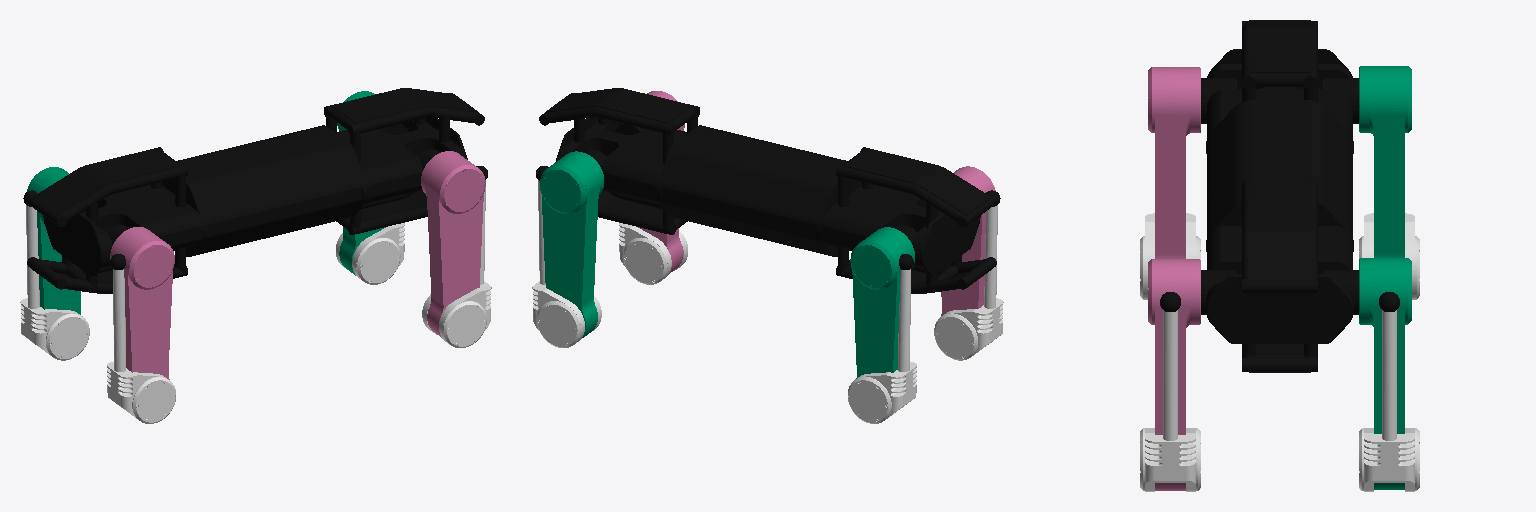
--- What the picture shows (computed from the rendered views, not written in the file) ---
The picture shows the robot from 3 angles, left to right: view 1: azimuth 30°, elevation 25°; view 2: azimuth 150°, elevation 25°; view 3: azimuth 270°, elevation 25°; orthographic projection.
Robot: hyq — 17 links, 16 joints (12 revolute, 4 fixed); root link trunk; default pose: joints at zero except 4 at the middle of their limits (lf_kfe_joint = -2.95, rf_kfe_joint = -2.95, lh_kfe_joint = 2.95, rh_kfe_joint = 2.95).
Links seen in each view (by area): view 1: trunk, rf_upperleg, rh_upperleg, rh_lowerleg, lh_lowerleg, rf_lowerleg, lf_lowerleg, lh_upperleg, lf_upperleg; view 2: trunk, lf_upperleg, lh_upperleg, lh_lowerleg, rh_lowerleg, lf_lowerleg, rf_lowerleg, rh_upperleg, rf_upperleg; view 3: trunk, lh_upperleg, rh_upperleg, lf_lowerleg, rf_lowerleg, rf_upperleg, lf_upperleg, rh_lowerleg, lh_lowerleg, lh_hipassembly, rh_hipassembly, lf_hipassembly (+1 smaller).
Boxes of the visible links, <box> form: trunk: <box>27,88,484,293</box>; rf_upperleg: <box>421,151,485,337</box>; rh_upperleg: <box>110,227,174,379</box>; rh_lowerleg: <box>107,269,175,423</box>; lh_lowerleg: <box>20,205,89,360</box>; rf_lowerleg: <box>422,187,491,347</box>; lf_lowerleg: <box>336,223,404,284</box>; lh_upperleg: <box>27,167,80,344</box>; lf_upperleg: <box>337,91,385,275</box>; trunk: <box>539,88,996,293</box>; lf_upperleg: <box>540,151,603,337</box>; lh_upperleg: <box>850,227,914,378</box>; lh_lowerleg: <box>848,269,916,423</box>; rh_lowerleg: <box>934,205,1003,360</box>; lf_lowerleg: <box>532,180,601,347</box>; rf_lowerleg: <box>619,223,687,284</box>; rh_upperleg: <box>941,166,995,315</box>; rf_upperleg: <box>638,91,684,273</box>; trunk: <box>1206,20,1353,372</box>; lh_upperleg: <box>1359,66,1411,257</box>; rh_upperleg: <box>1148,67,1200,258</box>; lf_lowerleg: <box>1359,310,1419,491</box>; rf_lowerleg: <box>1140,310,1200,491</box>; rf_upperleg: <box>1148,259,1200,490</box>; lf_upperleg: <box>1359,258,1411,489</box>; rh_lowerleg: <box>1140,213,1200,299</box>; lh_lowerleg: <box>1359,213,1419,299</box>; lh_hipassembly: <box>1323,78,1358,123</box>; rh_hipassembly: <box>1201,78,1236,123</box>; lf_hipassembly: <box>1323,270,1358,314</box>.
Size in the robot's own frame: 1.22 by 0.546 by 0.5745 metres.
Meshes: 3 distinct files referenced, 9 mesh visuals loaded (3 binary STL).

URDF robot description (hyq):
<?xml version="1.0" ?>
<!-- =================================================================================== -->
<!-- |    This document was autogenerated by xacro from hyq2max_model.urdf.xacro       | -->
<!-- |    EDITING THIS FILE BY HAND IS NOT RECOMMENDED                                 | -->
<!-- =================================================================================== -->
<robot name="hyq" xmlns:xacro="http://www.ros.org/wiki/xacro">
  <!-- 0.887 1.4192-->
  <gazebo>
    <plugin filename="libgazebo_ros_control.so" name="gazebo_ros_controller_manager">
      <robotNamespace>/hyq2max</robotNamespace>
      <robotSimType>dls_gazebo_interface/DLSHWSim</robotSimType>
      <controlPeriod>0.004</controlPeriod>
    </plugin>
    <plugin filename="libgazebo_ros_p3d.so" name="gazebo_ros_p3d">
      <robotNamespace>/hyq2max</robotNamespace>
      <bodyName>trunk</bodyName>
      <topicName>ground_truth</topicName>
      <frameName>world</frameName>
      <xyzOffsets>0 0 0</xyzOffsets>
      <rpyOffsets>0 0 0</rpyOffsets>
      <gaussianNoise>0</gaussianNoise>
      <alwaysOn>true</alwaysOn>
      <updateRate>250.0</updateRate>
    </plugin>
  </gazebo>
  <!-- Now we can start using the macros included above to define the actual HyQ2Max -->
  <!-- The first use of a macro. This one was defined in trunk.urdf.xacro above.
A macro like this will expand to a set of link and joint definitions, and to additional
Gazebo-related extensions (sensor plugins, etc). The macro takes an argument, name,
that equals "base", and uses it to generate names for its component links and joints
(e.g., base_link). The included origin block is also an argument to the macro. By convention,
the origin block defines where the component is w.r.t its parent (in this case the parent
is the world frame). For more, see http://www.ros.org/wiki/xacro -->
  <!-- Floating-base Joint -->
  <!--joint name="floating_base" type="floating">
    <origin rpy="0 0 0" xyz="0 0 0"/>
    <parent link="base_link"/>
    <child link="trunk"/>
  </joint-->
  <!-- Links -->
  <!-- Footprint link -->
  <!--link name="base_link">
    <visual>
      <geometry>
        <cylinder length="0.01" radius="0.01"/>
      </geometry>
    </visual>
  </link-->
  <!-- ***********  MODEL COLORS *********** -->
  <material name="black">
    <color rgba="0.1 0.1 0.1 1"/>
  </material>
  <material name="white">
    <color rgba="0.9 0.9 0.9 1"/>
  </material>
  <material name="dark_gray">
    <color rgba="0.3 0.3 0.3 1"/>
  </material>
  <!-- Trunk link -->
  <link name="trunk">
    <inertial>
      <origin xyz="0.060663 0.000598 -0.007592"/>
      <mass value="39.71"/>
      <inertia ixx="0.3020795" ixy="-0.0050854" ixz="0.0046576" iyy="4.751448" iyz="-0.0017613" izz="4.82415"/>
    </inertial>
    <visual>
      <origin rpy="0 0 1.57079632679" xyz="0 0 0"/>
      <material name="black"/>
      <geometry>
        <mesh filename="meshes/trunk/trunk.stl" scale="1.0 1 1.0"/>
      </geometry>
    </visual>
    <collision>
      <origin rpy="0 0 1.57079632679" xyz="0 0 0"/>
      <geometry>
        <mesh filename="meshes/trunk/trunk.stl" scale="1.0 1 1.0"/>
      </geometry>
    </collision>
  </link>
  <gazebo reference="trunk">
    <mu1>1.5</mu1>
    <mu2>1.5</mu2>
  </gazebo>
  <!-- Joints -->
  <!-- HAA joint -->
  <joint name="lf_haa_joint" type="revolute">
    <origin rpy="3.14159265359 1.57079632679 0" xyz="0.4435 0.097 0"/>
    <parent link="trunk"/>
    <child link="lf_hipassembly"/>
    <axis xyz="0 0 1"/>
    <dynamics damping="0.1" friction="0"/>
    <limit effort="120.0" lower="-0.698131700798" upper="0.698131700798" velocity="12.0"/>
    <safety_controller k_position="100" k_velocity="100" soft_lower_limit="-0.698131700798" soft_upper_limit="0.698131700798"/>
  </joint>
  <!-- HFE joint -->
  <joint name="lf_hfe_joint" type="revolute">
    <origin rpy="1.57079632679 0 0" xyz="0 -0.117 0"/>
    <parent link="lf_hipassembly"/>
    <child link="lf_upperleg"/>
    <axis xyz="0 0 1"/>
    <dynamics damping="0.1" friction="0"/>
    <limit effort="245.0" lower="-2.35619449019" upper="2.35619449019" velocity="12.0"/>
    <safety_controller k_position="100" k_velocity="100" soft_lower_limit="-2.35619449019" soft_upper_limit="2.35619449019"/>
  </joint>
  <!-- KFE joint -->
  <joint name="lf_kfe_joint" type="revolute">
    <origin rpy="0 0 0" xyz="0.36 0 0"/>
    <parent link="lf_upperleg"/>
    <child link="lf_lowerleg"/>
    <axis xyz="0 0 1"/>
    <dynamics damping="0.1" friction="0"/>
    <limit effort="250.0" lower="-5.82939970166" upper="-0.0698131700798" velocity="12.0"/>
    <safety_controller k_position="100" k_velocity="100" soft_lower_limit="-5.82939970166" soft_upper_limit="-0.0698131700798"/>
  </joint>
  <!-- Foot joint -->
  <joint name="lf_foot_joint" type="fixed">
    <origin rpy="1.57079632679 0 -1.57079632679" xyz="0.38 0 0"/>
    <parent link="lf_lowerleg"/>
    <child link="lf_foot"/>
  </joint>
  <!-- Links -->
  <!-- Hip assembly link -->
  <link name="lf_hipassembly">
    <inertial>
      <origin xyz="-0.000605 -0.001346 0.000196"/>
      <mass value="3.54"/>
      <inertia ixx="0.007379" ixy="-5.3e-05" ixz="1.7e-05" iyy="0.004284" iyz="3e-05" izz="0.00709"/>
    </inertial>
    <visual>
      <origin rpy="0 -1.57079632679 -1.57079632679" xyz="0 -0.046 0"/>
      <geometry>
        <cylinder length="0.117" radius="0.0444"/>
      </geometry>
      <material name="black"/>
    </visual>
    <collision>
      <origin rpy="0 -1.57079632679 -1.57079632679" xyz="0 -0.046 0"/>
      <geometry>
        <!-- <mesh filename="meshes/leg/hipassembly.stl" scale="1 1 1"/> -->
        <cylinder length="0.117" radius="0.0444"/>
      </geometry>
    </collision>
  </link>
  <gazebo reference="lf_hipassembly">
    <material>Gazebo/Black</material>
  </gazebo>
  <!-- Upper leg link -->
  <link name="lf_upperleg">
    <inertial>
      <origin xyz="0.144296 -0.002071 -0.005094"/>
      <mass value="4.95"/>
      <inertia ixx="0.010196" ixy="-0.00232" ixz="-0.000141" iyy="0.204183" iyz="3.4e-05" izz="0.207532"/>
    </inertial>
    <visual>
      <origin rpy="1.57079632679 0 0" xyz="0 0 -0.03"/>
      <!-- <origin xyz="0.180 0 0" rpy="0 0 0"/> -->
      <geometry>
        <mesh filename="meshes/leg/upperleg.stl" scale="1 1 1"/>
        <!-- <box size="0.360 0.116 0.07"/> -->
        <!-- <cylinder length="0.360" radius="0.07"/> -->
      </geometry>
    </visual>
    <collision>
      <origin rpy="1.57079632679 0 0" xyz="0 0 -0.03"/>
      <!-- <origin xyz="0.180 0 0" rpy="0 0 0"/> -->
      <geometry>
        <mesh filename="meshes/leg/upperleg.stl" scale="1 1 1"/>
        <!-- <box size="0.360 0.116 0.07"/> -->
        <!-- <cylinder length="0.360" radius="0.07"/> -->
      </geometry>
    </collision>
  </link>
  <!-- Lower leg link -->
  <link name="lf_lowerleg">
    <inertial>
      <origin xyz="0.109015 0.042147 0.000219"/>
      <mass value="1.71"/>
      <inertia ixx="0.006848" ixy="0.011981" ixz="8e-06" iyy="0.055957" iyz="1.2e-05" izz="0.059397"/>
    </inertial>
    <visual>
      <origin rpy="1.57079632679 0 2.96705972839" xyz="0 0 0"/>
      <geometry>
        <mesh filename="meshes/leg/lowerleg.stl" scale="1 1 1"/>
      </geometry>
      <material name="white"/>
    </visual>
    <collision>
      <origin rpy="1.57079632679 0 2.96705972839" xyz="0 0 0"/>
      <geometry>
        <mesh filename="meshes/leg/lowerleg.stl" scale="1 1 1"/>
      </geometry>
    </collision>
  </link>
  <!-- Foot link -->
  <link name="lf_foot">
    <inertial>
      <origin xyz="0 0 0"/>
      <mass value="0.0"/>
      <inertia ixx="0.0" ixy="0.0" ixz="0.0" iyy="0.0" iyz="0.0" izz="0.0"/>
    </inertial>
    <visual>
      <origin rpy="0.0 0.0 0.0" xyz="0.0 0.0 0.0"/>
      <geometry>
        <sphere radius="0.021"/>
      </geometry>
      <material name="black"/>
    </visual>
    <collision>
      <origin rpy="0 0 0" xyz="0 0 0"/>
      <geometry>
        <sphere radius="0.02175"/>
      </geometry>
    </collision>
  </link>
  <gazebo reference="lf_foot">
    <material>Gazebo/Black</material>
  </gazebo>
  <!-- Hip assembly -->
  <transmission name="lf_haa_trans">
    <type>transmission_interface/SimpleTransmission</type>
    <joint name="lf_haa_joint">
      <hardwareInterface>EffortJointInterface</hardwareInterface>
    </joint>
    <actuator name="lf_haa_motor">
      <hardwareInterface>EffortJointInterface</hardwareInterface>
      <mechanicalReduction>1</mechanicalReduction>
    </actuator>
  </transmission>
  <!-- Upper leg -->
  <transmission name="lf_hfe_trans">
    <type>transmission_interface/SimpleTransmission</type>
    <joint name="lf_hfe_joint">
      <hardwareInterface>EffortJointInterface</hardwareInterface>
    </joint>
    <actuator name="lf_hfe_motor">
      <hardwareInterface>EffortJointInterface</hardwareInterface>
      <mechanicalReduction>1</mechanicalReduction>
    </actuator>
  </transmission>
  <!-- Lower leg -->
  <transmission name="lf_kfe_trans">
    <type>transmission_interface/SimpleTransmission</type>
    <joint name="lf_kfe_joint">
      <hardwareInterface>EffortJointInterface</hardwareInterface>
    </joint>
    <actuator name="lf_kfe_motor">
      <hardwareInterface>EffortJointInterface</hardwareInterface>
      <mechanicalReduction>1</mechanicalReduction>
    </actuator>
  </transmission>
  <gazebo reference="lf_haa_joint">
    <provideFeedback>true</provideFeedback>
  </gazebo>
  <gazebo reference="lf_kfe_joint">
    <provideFeedback>true</provideFeedback>
  </gazebo>
  <gazebo reference="lf_hfe_joint">
    <provideFeedback>true</provideFeedback>
  </gazebo>
  <gazebo reference="lf_upperleg">
    <kp>1000000.0</kp>
    <kd>100.0</kd>
    <mu1>1.5</mu1>
    <mu2>1.5</mu2>
    <fdir1>1 0 0</fdir1>
    <maxVel>1.0</maxVel>
    <minDepth>0.00</minDepth>
  </gazebo>
  <gazebo reference="lf_lowerleg">
    <kp>1000000.0</kp>
    <kd>100.0</kd>
    <mu1>1.5</mu1>
    <mu2>1.5</mu2>
    <fdir1>1 0 0</fdir1>
    <maxVel>1.0</maxVel>
    <minDepth>0.00</minDepth>
    <sensor name="lf_shin_contact_sensor" type="contact">
      <always_on>true</always_on>
      <update_rate>1000.0</update_rate>
      <contact>
        <collision>lf_lowerleg_collision</collision>
      </contact>
      <plugin filename="libgazebo_ros_bumper.so" name="lf_shin_bumper">
        <bumperTopicName>/lf_shin_sensor</bumperTopicName>
      </plugin>
    </sensor>
  </gazebo>
  <gazebo reference="lf_foot">
    <sensor name="lf_foot_contact_sensor" type="contact">
      <always_on>true</always_on>
      <update_rate>1000.0</update_rate>
      <contact>
        <collision>lf_foot_collision</collision>
      </contact>
      <plugin filename="libgazebo_ros_bumper.so" name="lf_foot_bumper">
        <bumperTopicName>/lf_grf</bumperTopicName>
        <frameName>base_link</frameName>
      </plugin>
    </sensor>
  </gazebo>
  <!-- Joints -->
  <!-- HAA joint -->
  <joint name="rf_haa_joint" type="revolute">
    <origin rpy="0 1.57079632679 0" xyz="0.4435 -0.097 0"/>
    <parent link="trunk"/>
    <child link="rf_hipassembly"/>
    <axis xyz="0 0 1"/>
    <dynamics damping="0.1" friction="0"/>
    <limit effort="120.0" lower="-0.698131700798" upper="0.698131700798" velocity="12.0"/>
    <safety_controller k_position="100" k_velocity="100" soft_lower_limit="-0.698131700798" soft_upper_limit="0.698131700798"/>
  </joint>
  <!-- HFE joint -->
  <joint name="rf_hfe_joint" type="revolute">
    <origin rpy="-1.57079632679 0 0" xyz="0 -0.117 0"/>
    <parent link="rf_hipassembly"/>
    <child link="rf_upperleg"/>
    <axis xyz="0 0 1"/>
    <dynamics damping="0.1" friction="0"/>
    <limit effort="245.0" lower="-2.35619449019" upper="2.35619449019" velocity="12.0"/>
    <safety_controller k_position="100" k_velocity="100" soft_lower_limit="-2.35619449019" soft_upper_limit="2.35619449019"/>
  </joint>
  <!-- KFE joint -->
  <joint name="rf_kfe_joint" type="revolute">
    <origin rpy="0 0 0" xyz="0.36 0 0"/>
    <parent link="rf_upperleg"/>
    <child link="rf_lowerleg"/>
    <axis xyz="0 0 1"/>
    <dynamics damping="0.1" friction="0"/>
    <limit effort="250.0" lower="-5.82939970166" upper="-0.0698131700798" velocity="12.0"/>
    <safety_controller k_position="100" k_velocity="100" soft_lower_limit="-5.82939970166" soft_upper_limit="-0.0698131700798"/>
  </joint>
  <!-- Foot joint -->
  <joint name="rf_foot_joint" type="fixed">
    <origin rpy="1.57079632679 0 -1.57079632679" xyz="0.38 0 0"/>
    <parent link="rf_lowerleg"/>
    <child link="rf_foot"/>
  </joint>
  <!-- Links -->
  <!-- Hip assembly link -->
  <link name="rf_hipassembly">
    <inertial>
      <origin xyz="-0.000605 -0.001346 0.000196"/>
      <mass value="3.54"/>
      <inertia ixx="0.007379" ixy="-5.3e-05" ixz="1.7e-05" iyy="0.004284" iyz="3e-05" izz="0.00709"/>
    </inertial>
    <visual>
      <origin rpy="0 -1.57079632679 -1.57079632679" xyz="0 -0.046 0"/>
      <geometry>
        <cylinder length="0.117" radius="0.0444"/>
      </geometry>
      <material name="black"/>
    </visual>
    <collision>
      <origin rpy="0 -1.57079632679 -1.57079632679" xyz="0 -0.046 0"/>
      <geometry>
        <!-- <mesh filename="meshes/leg/hipassembly.stl" scale="1 1 1"/> -->
        <cylinder length="0.117" radius="0.0444"/>
      </geometry>
    </collision>
  </link>
  <gazebo reference="rf_hipassembly">
    <material>Gazebo/Black</material>
  </gazebo>
  <!-- Upper leg link -->
  <link name="rf_upperleg">
    <inertial>
      <origin xyz="0.144296 -0.002071 0.005094"/>
      <mass value="4.95"/>
      <inertia ixx="0.010196" ixy="-0.00232" ixz="0.000141" iyy="0.204183" iyz="-3.4e-05" izz="0.207532"/>
    </inertial>
    <visual>
      <origin rpy="-1.57079632679 0 0" xyz="0 0 0.03"/>
      <!-- <origin xyz="0.180 0 0" rpy="0 0 0"/> -->
      <geometry>
        <mesh filename="meshes/leg/upperleg.stl" scale="1 1 1"/>
        <!-- <box size="0.360 0.116 0.07"/> -->
        <!-- <cylinder length="0.360" radius="0.07"/> -->
      </geometry>
    </visual>
    <collision>
      <origin rpy="-1.57079632679 0 0" xyz="0 0 0.03"/>
      <!-- <origin xyz="0.180 0 0" rpy="0 0 0"/> -->
      <geometry>
        <mesh filename="meshes/leg/upperleg.stl" scale="1 1 1"/>
        <!-- <box size="0.360 0.116 0.07"/> -->
        <!-- <cylinder length="0.360" radius="0.07"/> -->
      </geometry>
    </collision>
  </link>
  <!-- Lower leg link -->
  <link name="rf_lowerleg">
    <inertial>
      <origin xyz="0.109015 0.042147 0.000219"/>
      <mass value="1.71"/>
      <inertia ixx="0.006848" ixy="0.011981" ixz="8e-06" iyy="0.055957" iyz="1.2e-05" izz="0.059397"/>
    </inertial>
    <visual>
      <origin rpy="1.57079632679 0 2.96705972839" xyz="0 0 0"/>
      <geometry>
        <mesh filename="meshes/leg/lowerleg.stl" scale="1 1 1"/>
      </geometry>
      <material name="white"/>
    </visual>
    <collision>
      <origin rpy="1.57079632679 0 2.96705972839" xyz="0 0 0"/>
      <geometry>
        <mesh filename="meshes/leg/lowerleg.stl" scale="1 1 1"/>
      </geometry>
    </collision>
  </link>
  <!-- Foot link -->
  <link name="rf_foot">
    <inertial>
      <origin xyz="0 0 0"/>
      <mass value="0.0"/>
      <inertia ixx="0.0" ixy="0.0" ixz="0.0" iyy="0.0" iyz="0.0" izz="0.0"/>
    </inertial>
    <visual>
      <origin rpy="0.0 0.0 0.0" xyz="0.0 0.0 0.0"/>
      <geometry>
        <sphere radius="0.021"/>
      </geometry>
      <material name="black"/>
    </visual>
    <collision>
      <origin rpy="0 0 0" xyz="0 0 0"/>
      <geometry>
        <sphere radius="0.02175"/>
      </geometry>
    </collision>
  </link>
  <gazebo reference="rf_foot">
    <material>Gazebo/Black</material>
  </gazebo>
  <!-- Hip assembly -->
  <transmission name="rf_haa_trans">
    <type>transmission_interface/SimpleTransmission</type>
    <joint name="rf_haa_joint">
      <hardwareInterface>EffortJointInterface</hardwareInterface>
    </joint>
    <actuator name="rf_haa_motor">
      <hardwareInterface>EffortJointInterface</hardwareInterface>
      <mechanicalReduction>1</mechanicalReduction>
    </actuator>
  </transmission>
  <!-- Upper leg -->
  <transmission name="rf_hfe_trans">
    <type>transmission_interface/SimpleTransmission</type>
    <joint name="rf_hfe_joint">
      <hardwareInterface>EffortJointInterface</hardwareInterface>
    </joint>
    <actuator name="rf_hfe_motor">
      <hardwareInterface>EffortJointInterface</hardwareInterface>
      <mechanicalReduction>1</mechanicalReduction>
    </actuator>
  </transmission>
  <!-- Lower leg -->
  <transmission name="rf_kfe_trans">
    <type>transmission_interface/SimpleTransmission</type>
    <joint name="rf_kfe_joint">
      <hardwareInterface>EffortJointInterface</hardwareInterface>
    </joint>
    <actuator name="rf_kfe_motor">
      <hardwareInterface>EffortJointInterface</hardwareInterface>
      <mechanicalReduction>1</mechanicalReduction>
    </actuator>
  </transmission>
  <gazebo reference="rf_haa_joint">
    <provideFeedback>true</provideFeedback>
  </gazebo>
  <gazebo reference="rf_kfe_joint">
    <provideFeedback>true</provideFeedback>
  </gazebo>
  <gazebo reference="rf_hfe_joint">
    <provideFeedback>true</provideFeedback>
  </gazebo>
  <gazebo reference="rf_upperleg">
    <kp>1000000.0</kp>
    <kd>100.0</kd>
    <mu1>1.5</mu1>
    <mu2>1.5</mu2>
    <fdir1>1 0 0</fdir1>
    <maxVel>1.0</maxVel>
    <minDepth>0.00</minDepth>
  </gazebo>
  <gazebo reference="rf_lowerleg">
    <kp>1000000.0</kp>
    <kd>100.0</kd>
    <mu1>1.5</mu1>
    <mu2>1.5</mu2>
    <fdir1>1 0 0</fdir1>
    <maxVel>1.0</maxVel>
    <minDepth>0.00</minDepth>
    <sensor name="rf_shin_contact_sensor" type="contact">
      <always_on>true</always_on>
      <update_rate>1000.0</update_rate>
      <contact>
        <collision>rf_lowerleg_collision</collision>
      </contact>
      <plugin filename="libgazebo_ros_bumper.so" name="rf_shin_bumper">
        <bumperTopicName>/rf_shin_sensor</bumperTopicName>
      </plugin>
    </sensor>
  </gazebo>
  <gazebo reference="rf_foot">
    <sensor name="rf_foot_contact_sensor" type="contact">
      <always_on>true</always_on>
      <update_rate>1000.0</update_rate>
      <contact>
        <collision>rf_foot_collision</collision>
      </contact>
      <plugin filename="libgazebo_ros_bumper.so" name="rf_foot_bumper">
        <bumperTopicName>/rf_grf</bumperTopicName>
        <frameName>base_link</frameName>
      </plugin>
    </sensor>
  </gazebo>
  <!-- Joints -->
  <!-- HAA joint -->
  <joint name="lh_haa_joint" type="revolute">
    <origin rpy="3.14159265359 1.57079632679 0" xyz="-0.4435 0.097 0"/>
    <parent link="trunk"/>
    <child link="lh_hipassembly"/>
    <axis xyz="0 0 1"/>
    <dynamics damping="0.1" friction="0"/>
    <limit effort="120.0" lower="-0.698131700798" upper="0.698131700798" velocity="12.0"/>
    <safety_controller k_position="100" k_velocity="100" soft_lower_limit="-0.698131700798" soft_upper_limit="0.698131700798"/>
  </joint>
  <!-- HFE joint -->
  <joint name="lh_hfe_joint" type="revolute">
    <origin rpy="1.57079632679 0 0" xyz="0 -0.117 0"/>
    <parent link="lh_hipassembly"/>
    <child link="lh_upperleg"/>
    <axis xyz="0 0 1"/>
    <dynamics damping="0.1" friction="0"/>
    <limit effort="245.0" lower="-2.35619449019" upper="2.35619449019" velocity="12.0"/>
    <safety_controller k_position="100" k_velocity="100" soft_lower_limit="-2.35619449019" soft_upper_limit="2.35619449019"/>
  </joint>
  <!-- KFE joint -->
  <joint name="lh_kfe_joint" type="revolute">
    <origin rpy="0 0 0" xyz="0.36 0 0"/>
    <parent link="lh_upperleg"/>
    <child link="lh_lowerleg"/>
    <axis xyz="0 0 1"/>
    <dynamics damping="0.1" friction="0"/>
    <limit effort="250.0" lower="0.0698131700798" upper="5.82939970166" velocity="12.0"/>
    <safety_controller k_position="100" k_velocity="100" soft_lower_limit="0.0698131700798" soft_upper_limit="5.82939970166"/>
  </joint>
  <!-- Foot joint -->
  <joint name="lh_foot_joint" type="fixed">
    <origin rpy="1.57079632679 0 -1.57079632679" xyz="0.38 0 0"/>
    <parent link="lh_lowerleg"/>
    <child link="lh_foot"/>
  </joint>
  <!-- Links -->
  <!-- Hip assembly link -->
  <link name="lh_hipassembly">
    <inertial>
      <origin xyz="-0.000605 -0.001346 0.000196"/>
      <mass value="3.54"/>
      <inertia ixx="0.007379" ixy="-5.3e-05" ixz="1.7e-05" iyy="0.004284" iyz="3e-05" izz="0.00709"/>
    </inertial>
    <visual>
      <origin rpy="0 -1.57079632679 -1.57079632679" xyz="0 -0.046 0"/>
      <geometry>
        <cylinder length="0.117" radius="0.0444"/>
      </geometry>
      <material name="black"/>
    </visual>
    <collision>
      <origin rpy="0 -1.57079632679 -1.57079632679" xyz="0 -0.046 0"/>
      <geometry>
        <!-- <mesh filename="meshes/leg/hipassembly.stl" scale="1 1 1"/> -->
        <cylinder length="0.117" radius="0.0444"/>
      </geometry>
    </collision>
  </link>
  <gazebo reference="lh_hipassembly">
    <material>Gazebo/Black</material>
  </gazebo>
  <!-- Upper leg link -->
  <link name="lh_upperleg">
    <inertial>
      <origin xyz="0.144296 0.002071 -0.005094"/>
      <mass value="4.95"/>
      <inertia ixx="0.010196" ixy="0.00232" ixz="-0.000141" iyy="0.204183" iyz="-3.4e-05" izz="0.207532"/>
    </inertial>
    <visual>
      <origin rpy="1.57079632679 0 0" xyz="0 0 -0.03"/>
      <!-- <origin xyz="0.180 0 0" rpy="0 0 0"/> -->
      <geometry>
        <mesh filename="meshes/leg/upperleg.stl" scale="1 1 1"/>
        <!-- <box size="0.360 0.116 0.07"/> -->
        <!-- <cylinder length="0.360" radius="0.07"/> -->
      </geometry>
    </visual>
    <collision>
      <origin rpy="1.57079632679 0 0" xyz="0 0 -0.03"/>
      <!-- <origin xyz="0.180 0 0" rpy="0 0 0"/> -->
      <geometry>
        <mesh filename="meshes/leg/upperleg.stl" scale="1 1 1"/>
        <!-- <box size="0.360 0.116 0.07"/> -->
        <!-- <cylinder length="0.360" radius="0.07"/> -->
      </geometry>
    </collision>
  </link>
  <!-- Lower leg link -->
  <link name="lh_lowerleg">
    <inertial>
      <origin xyz="0.109015 -0.042147 -0.000219"/>
      <mass value="1.71"/>
      <inertia ixx="0.006848" ixy="-0.011981" ixz="-8e-06" iyy="0.055957" iyz="1.2e-05" izz="0.059397"/>
    </inertial>
    <visual>
      <origin rpy="-1.57079632679 0 3.31612557879" xyz="0 0 0"/>
      <geometry>
        <mesh filename="meshes/leg/lowerleg.stl" scale="1 1 1"/>
      </geometry>
      <material name="white"/>
    </visual>
    <collision>
      <origin rpy="-1.57079632679 0 3.31612557879" xyz="0 0 0"/>
      <geometry>
        <mesh filename="meshes/leg/lowerleg.stl" scale="1 1 1"/>
      </geometry>
    </collision>
  </link>
  <!-- Foot link -->
  <link name="lh_foot">
    <inertial>
      <origin xyz="0 0 0"/>
      <mass value="0.0"/>
      <inertia ixx="0.0" ixy="0.0" ixz="0.0" iyy="0.0" iyz="0.0" izz="0.0"/>
    </inertial>
    <visual>
      <origin rpy="0.0 0.0 0.0" xyz="0.0 0.0 0.0"/>
      <geometry>
        <sphere radius="0.021"/>
      </geometry>
      <material name="black"/>
    </visual>
    <collision>
      <origin rpy="0 0 0" xyz="0 0 0"/>
      <geometry>
        <sphere radius="0.02175"/>
      </geometry>
    </collision>
  </link>
  <gazebo reference="lh_foot">
    <material>Gazebo/Black</material>
  </gazebo>
  <!-- Hip assembly -->
  <transmission name="lh_haa_trans">
    <type>transmission_interface/SimpleTransmission</type>
    <joint name="lh_haa_joint">
      <hardwareInterface>EffortJointInterface</hardwareInterface>
    </joint>
    <actuator name="lh_haa_motor">
      <hardwareInterface>EffortJointInterface</hardwareInterface>
      <mechanicalReduction>1</mechanicalReduction>
    </actuator>
  </transmission>
  <!-- Upper leg -->
  <transmission name="lh_hfe_trans">
    <type>transmission_interface/SimpleTransmission</type>
    <joint name="lh_hfe_joint">
      <hardwareInterface>EffortJointInterface</hardwareInterface>
    </joint>
    <actuator name="lh_hfe_motor">
      <hardwareInterface>EffortJointInterface</hardwareInterface>
      <mechanicalReduction>1</mechanicalReduction>
    </actuator>
  </transmission>
  <!-- Lower leg -->
  <transmission name="lh_kfe_trans">
    <type>transmission_interface/SimpleTransmission</type>
    <joint name="lh_kfe_joint">
      <hardwareInterface>EffortJointInterface</hardwareInterface>
    </joint>
    <actuator name="lh_kfe_motor">
      <hardwareInterface>EffortJointInterface</hardwareInterface>
      <mechanicalReduction>1</mechanicalReduction>
    </actuator>
  </transmission>
  <gazebo reference="lh_haa_joint">
    <provideFeedback>true</provideFeedback>
  </gazebo>
  <gazebo reference="lh_kfe_joint">
    <provideFeedback>true</provideFeedback>
  </gazebo>
  <gazebo reference="lh_hfe_joint">
    <provideFeedback>true</provideFeedback>
  </gazebo>
  <gazebo reference="lh_upperleg">
    <kp>1000000.0</kp>
    <kd>100.0</kd>
    <mu1>1.5</mu1>
    <mu2>1.5</mu2>
    <fdir1>1 0 0</fdir1>
    <maxVel>1.0</maxVel>
    <minDepth>0.00</minDepth>
  </gazebo>
  <gazebo reference="lh_lowerleg">
    <kp>1000000.0</kp>
    <kd>100.0</kd>
    <mu1>1.5</mu1>
    <mu2>1.5</mu2>
    <fdir1>1 0 0</fdir1>
    <maxVel>1.0</maxVel>
    <minDepth>0.00</minDepth>
    <sensor name="lh_shin_contact_sensor" type="contact">
      <always_on>true</always_on>
      <update_rate>1000.0</update_rate>
      <contact>
        <collision>lh_lowerleg_collision</collision>
      </contact>
      <plugin filename="libgazebo_ros_bumper.so" name="lh_shin_bumper">
        <bumperTopicName>/lh_shin_sensor</bumperTopicName>
      </plugin>
    </sensor>
  </gazebo>
  <gazebo reference="lh_foot">
    <sensor name="lh_foot_contact_sensor" type="contact">
      <always_on>true</always_on>
      <update_rate>1000.0</update_rate>
      <contact>
        <collision>lh_foot_collision</collision>
      </contact>
      <plugin filename="libgazebo_ros_bumper.so" name="lh_foot_bumper">
        <bumperTopicName>/lh_grf</bumperTopicName>
        <frameName>base_link</frameName>
      </plugin>
    </sensor>
  </gazebo>
  <!-- Joints -->
  <!-- HAA joint -->
  <joint name="rh_haa_joint" type="revolute">
    <origin rpy="0 1.57079632679 0" xyz="-0.4435 -0.097 0"/>
    <parent link="trunk"/>
    <child link="rh_hipassembly"/>
    <axis xyz="0 0 1"/>
    <dynamics damping="0.1" friction="0"/>
    <limit effort="120.0" lower="-0.698131700798" upper="0.698131700798" velocity="12.0"/>
    <safety_controller k_position="100" k_velocity="100" soft_lower_limit="-0.698131700798" soft_upper_limit="0.698131700798"/>
  </joint>
  <!-- HFE joint -->
  <joint name="rh_hfe_joint" type="revolute">
    <origin rpy="-1.57079632679 0 0" xyz="0 -0.117 0"/>
    <parent link="rh_hipassembly"/>
    <child link="rh_upperleg"/>
    <axis xyz="0 0 1"/>
    <dynamics damping="0.1" friction="0"/>
    <limit effort="245.0" lower="-2.35619449019" upper="2.35619449019" velocity="12.0"/>
    <safety_controller k_position="100" k_velocity="100" soft_lower_limit="-2.35619449019" soft_upper_limit="2.35619449019"/>
  </joint>
  <!-- KFE joint -->
  <joint name="rh_kfe_joint" type="revolute">
    <origin rpy="0 0 0" xyz="0.36 0 0"/>
    <parent link="rh_upperleg"/>
    <child link="rh_lowerleg"/>
    <axis xyz="0 0 1"/>
    <dynamics damping="0.1" friction="0"/>
    <limit effort="250.0" lower="0.0698131700798" upper="5.82939970166" velocity="12.0"/>
    <safety_controller k_position="100" k_velocity="100" soft_lower_limit="0.0698131700798" soft_upper_limit="5.82939970166"/>
  </joint>
  <!-- Foot joint -->
  <joint name="rh_foot_joint" type="fixed">
    <origin rpy="1.57079632679 0 -1.57079632679" xyz="0.38 0 0"/>
    <parent link="rh_lowerleg"/>
    <child link="rh_foot"/>
  </joint>
  <!-- Links -->
  <!-- Hip assembly link -->
  <link name="rh_hipassembly">
    <inertial>
      <origin xyz="-0.000605 -0.001346 0.000196"/>
      <mass value="3.54"/>
      <inertia ixx="0.007379" ixy="-5.3e-05" ixz="1.7e-05" iyy="0.004284" iyz="3e-05" izz="0.00709"/>
    </inertial>
    <visual>
      <origin rpy="0 -1.57079632679 -1.57079632679" xyz="0 -0.046 0"/>
      <geometry>
        <cylinder length="0.117" radius="0.0444"/>
      </geometry>
      <material name="black"/>
    </visual>
    <collision>
      <origin rpy="0 -1.57079632679 -1.57079632679" xyz="0 -0.046 0"/>
      <geometry>
        <!-- <mesh filename="meshes/leg/hipassembly.stl" scale="1 1 1"/> -->
        <cylinder length="0.117" radius="0.0444"/>
      </geometry>
    </collision>
  </link>
  <gazebo reference="rh_hipassembly">
    <material>Gazebo/Black</material>
  </gazebo>
  <!-- Upper leg link -->
  <link name="rh_upperleg">
    <inertial>
      <origin xyz="0.144296 0.002071 0.005094"/>
      <mass value="4.95"/>
      <inertia ixx="0.010196" ixy="0.00232" ixz="0.000141" iyy="0.204183" iyz="3.4e-05" izz="0.207532"/>
    </inertial>
    <visual>
      <origin rpy="-1.57079632679 0 0" xyz="0 0 0.03"/>
      <!-- <origin xyz="0.180 0 0" rpy="0 0 0"/> -->
      <geometry>
        <mesh filename="meshes/leg/upperleg.stl" scale="1 1 1"/>
        <!-- <box size="0.360 0.116 0.07"/> -->
        <!-- <cylinder length="0.360" radius="0.07"/> -->
      </geometry>
    </visual>
    <collision>
      <origin rpy="-1.57079632679 0 0" xyz="0 0 0.03"/>
      <!-- <origin xyz="0.180 0 0" rpy="0 0 0"/> -->
      <geometry>
        <mesh filename="meshes/leg/upperleg.stl" scale="1 1 1"/>
        <!-- <box size="0.360 0.116 0.07"/> -->
        <!-- <cylinder length="0.360" radius="0.07"/> -->
      </geometry>
    </collision>
  </link>
  <!-- Lower leg link -->
  <link name="rh_lowerleg">
    <inertial>
      <origin xyz="0.109015 -0.042147 -0.000219"/>
      <mass value="1.71"/>
      <inertia ixx="0.006848" ixy="-0.011981" ixz="-8e-06" iyy="0.055957" iyz="1.2e-05" izz="0.059397"/>
    </inertial>
    <visual>
      <origin rpy="-1.57079632679 0 3.31612557879" xyz="0 0 0"/>
      <geometry>
        <mesh filename="meshes/leg/lowerleg.stl" scale="1 1 1"/>
      </geometry>
      <material name="white"/>
    </visual>
    <collision>
      <origin rpy="-1.57079632679 0 3.31612557879" xyz="0 0 0"/>
      <geometry>
        <mesh filename="meshes/leg/lowerleg.stl" scale="1 1 1"/>
      </geometry>
    </collision>
  </link>
  <!-- Foot link -->
  <link name="rh_foot">
    <inertial>
      <origin xyz="0 0 0"/>
      <mass value="0.0"/>
      <inertia ixx="0.0" ixy="0.0" ixz="0.0" iyy="0.0" iyz="0.0" izz="0.0"/>
    </inertial>
    <visual>
      <origin rpy="0.0 0.0 0.0" xyz="0.0 0.0 0.0"/>
      <geometry>
        <sphere radius="0.021"/>
      </geometry>
      <material name="black"/>
    </visual>
    <collision>
      <origin rpy="0 0 0" xyz="0 0 0"/>
      <geometry>
        <sphere radius="0.02175"/>
      </geometry>
    </collision>
  </link>
  <gazebo reference="rh_foot">
    <material>Gazebo/Black</material>
  </gazebo>
  <!-- Hip assembly -->
  <transmission name="rh_haa_trans">
    <type>transmission_interface/SimpleTransmission</type>
    <joint name="rh_haa_joint">
      <hardwareInterface>EffortJointInterface</hardwareInterface>
    </joint>
    <actuator name="rh_haa_motor">
      <hardwareInterface>EffortJointInterface</hardwareInterface>
      <mechanicalReduction>1</mechanicalReduction>
    </actuator>
  </transmission>
  <!-- Upper leg -->
  <transmission name="rh_hfe_trans">
    <type>transmission_interface/SimpleTransmission</type>
    <joint name="rh_hfe_joint">
      <hardwareInterface>EffortJointInterface</hardwareInterface>
    </joint>
    <actuator name="rh_hfe_motor">
      <hardwareInterface>EffortJointInterface</hardwareInterface>
      <mechanicalReduction>1</mechanicalReduction>
    </actuator>
  </transmission>
  <!-- Lower leg -->
  <transmission name="rh_kfe_trans">
    <type>transmission_interface/SimpleTransmission</type>
    <joint name="rh_kfe_joint">
      <hardwareInterface>EffortJointInterface</hardwareInterface>
    </joint>
    <actuator name="rh_kfe_motor">
      <hardwareInterface>EffortJointInterface</hardwareInterface>
      <mechanicalReduction>1</mechanicalReduction>
    </actuator>
  </transmission>
  <gazebo reference="rh_haa_joint">
    <provideFeedback>true</provideFeedback>
  </gazebo>
  <gazebo reference="rh_kfe_joint">
    <provideFeedback>true</provideFeedback>
  </gazebo>
  <gazebo reference="rh_hfe_joint">
    <provideFeedback>true</provideFeedback>
  </gazebo>
  <gazebo reference="rh_upperleg">
    <kp>1000000.0</kp>
    <kd>100.0</kd>
    <mu1>1.5</mu1>
    <mu2>1.5</mu2>
    <fdir1>1 0 0</fdir1>
    <maxVel>1.0</maxVel>
    <minDepth>0.00</minDepth>
  </gazebo>
  <gazebo reference="rh_lowerleg">
    <kp>1000000.0</kp>
    <kd>100.0</kd>
    <mu1>1.5</mu1>
    <mu2>1.5</mu2>
    <fdir1>1 0 0</fdir1>
    <maxVel>1.0</maxVel>
    <minDepth>0.00</minDepth>
    <sensor name="rh_shin_contact_sensor" type="contact">
      <always_on>true</always_on>
      <update_rate>1000.0</update_rate>
      <contact>
        <collision>rh_lowerleg_collision</collision>
      </contact>
      <plugin filename="libgazebo_ros_bumper.so" name="rh_shin_bumper">
        <bumperTopicName>/rh_shin_sensor</bumperTopicName>
      </plugin>
    </sensor>
  </gazebo>
  <gazebo reference="rh_foot">
    <sensor name="rh_foot_contact_sensor" type="contact">
      <always_on>true</always_on>
      <update_rate>1000.0</update_rate>
      <contact>
        <collision>rh_foot_collision</collision>
      </contact>
      <plugin filename="libgazebo_ros_bumper.so" name="rh_foot_bumper">
        <bumperTopicName>/rh_grf</bumperTopicName>
        <frameName>base_link</frameName>
      </plugin>
    </sensor>
  </gazebo>
</robot>
